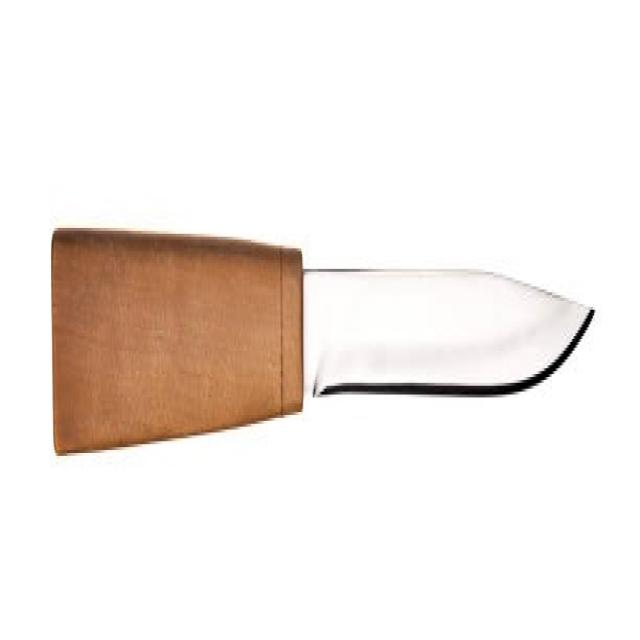knife: (52, 217, 597, 464)
